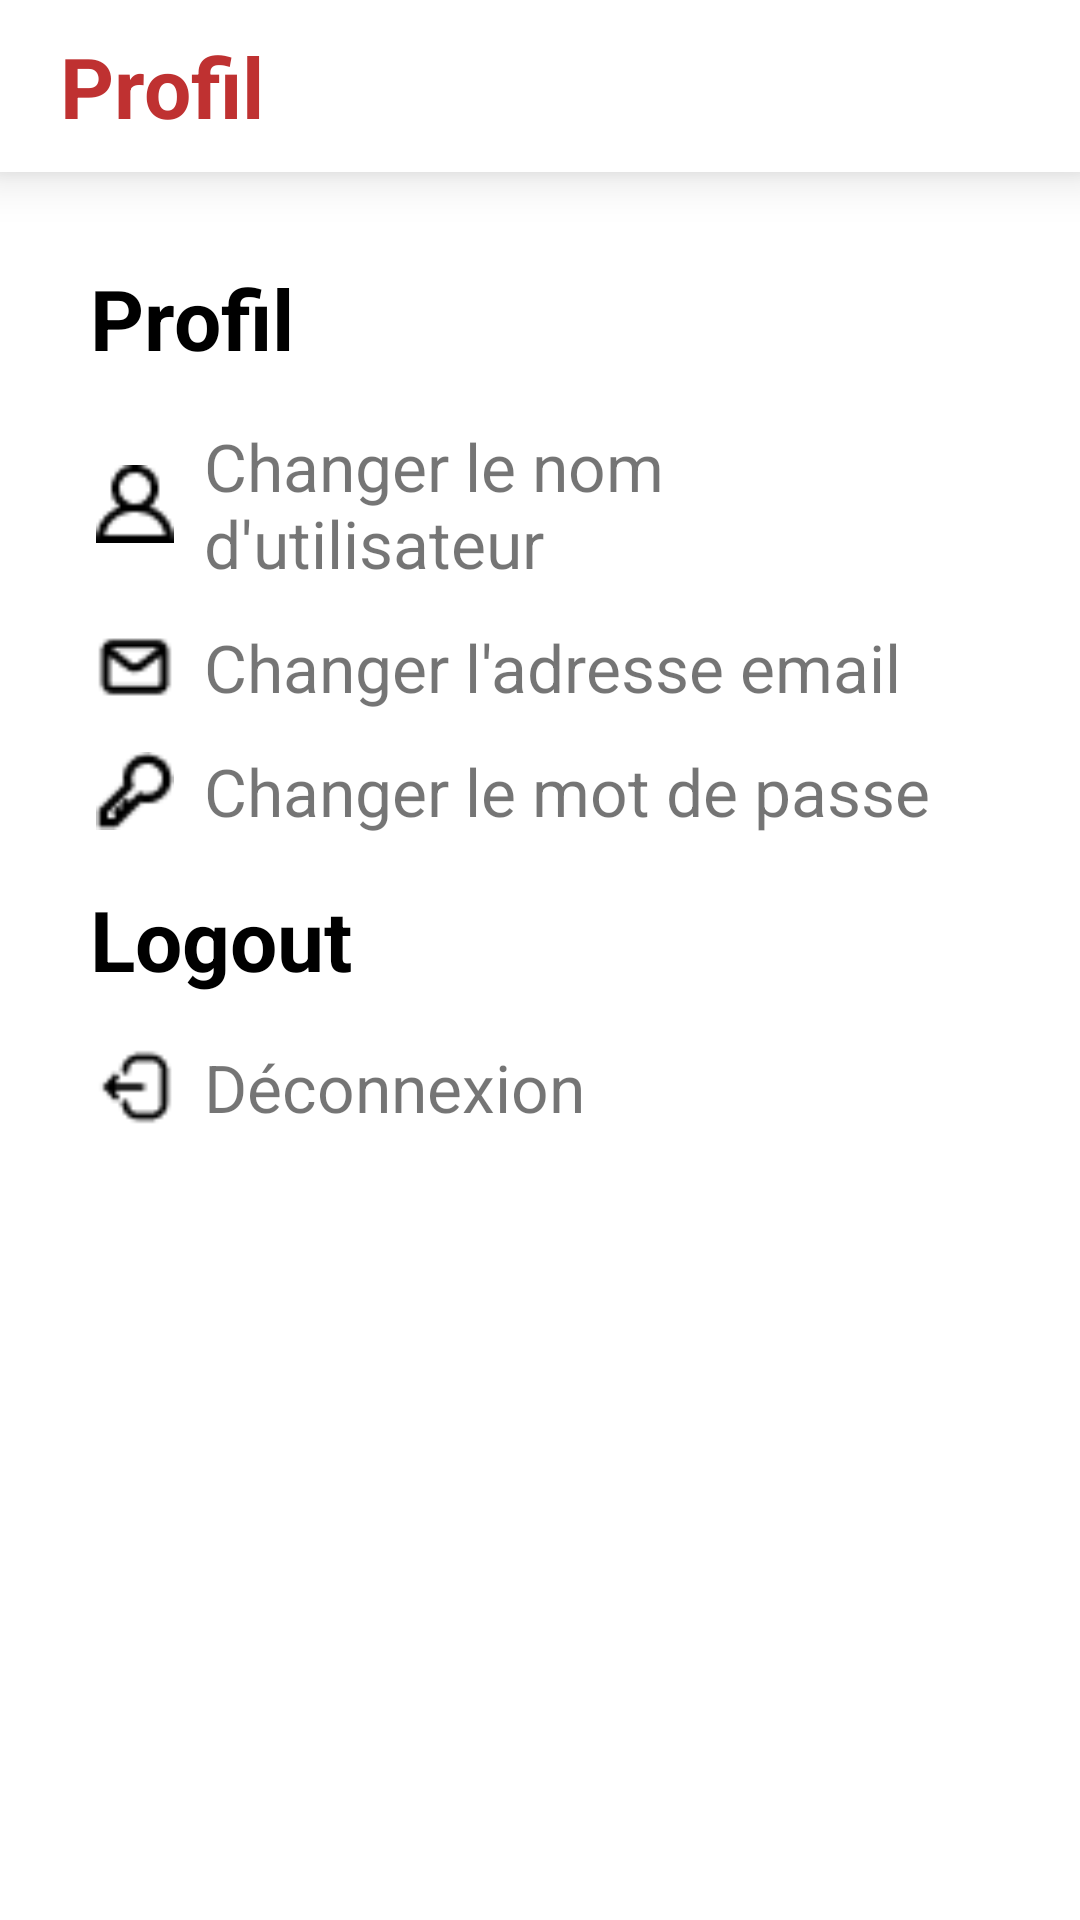

Icons on this 1080x1920 Android screen, each with its box as (x1, y1, x2, y2):
password: (96, 752, 174, 830)
